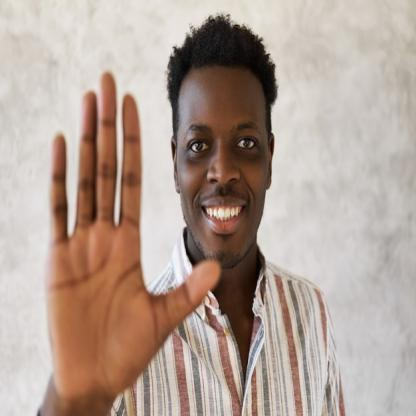stop: (42, 66, 221, 410)
